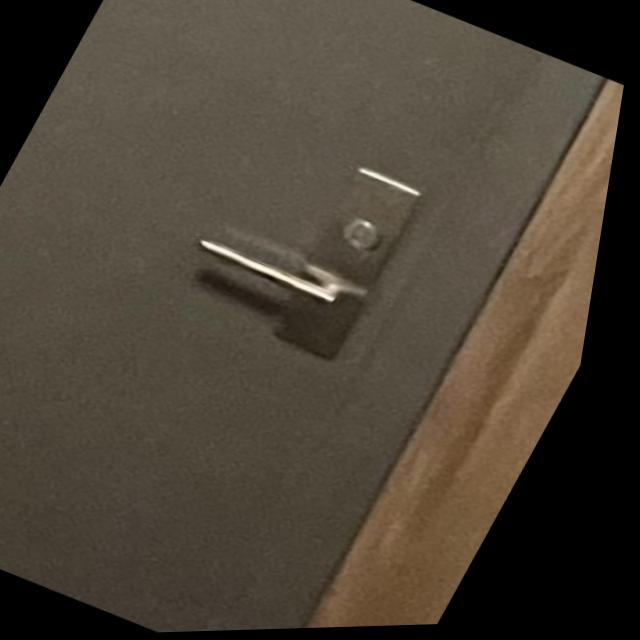door_handle: (160, 195, 418, 351)
